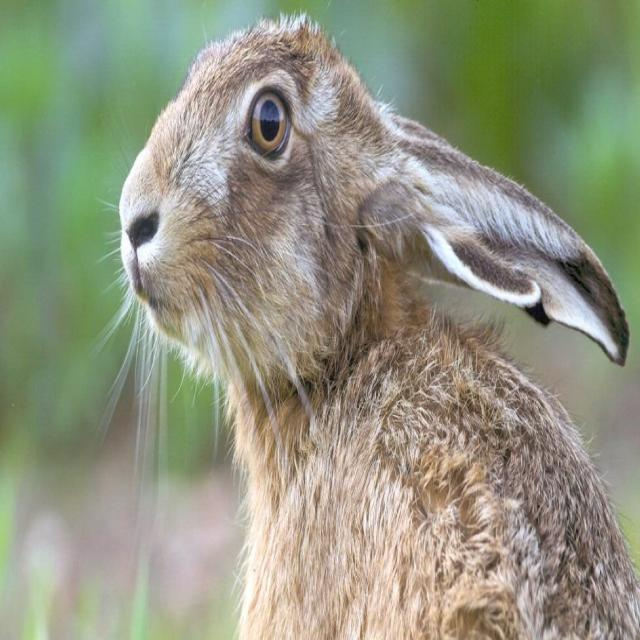Hare: (95, 0, 639, 640)
